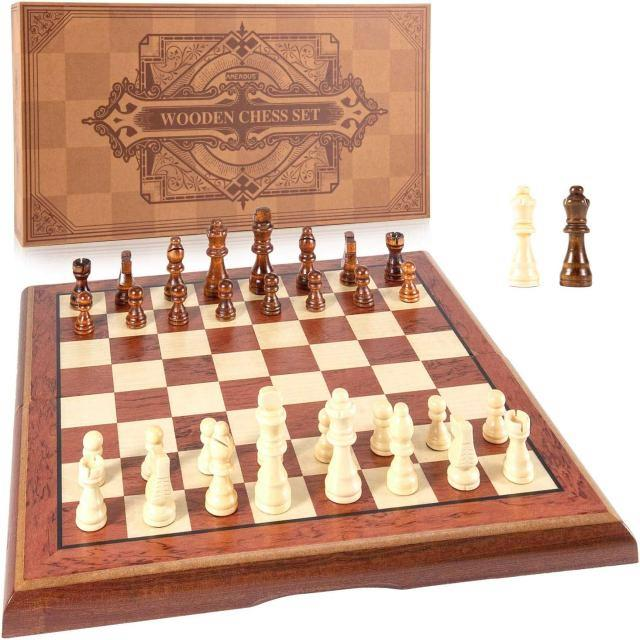chess-table-corners: (545, 479, 575, 498), (54, 540, 68, 554), (52, 290, 66, 300)
